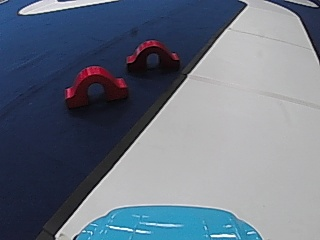bridge: (61, 61, 130, 109), (126, 36, 180, 74)
